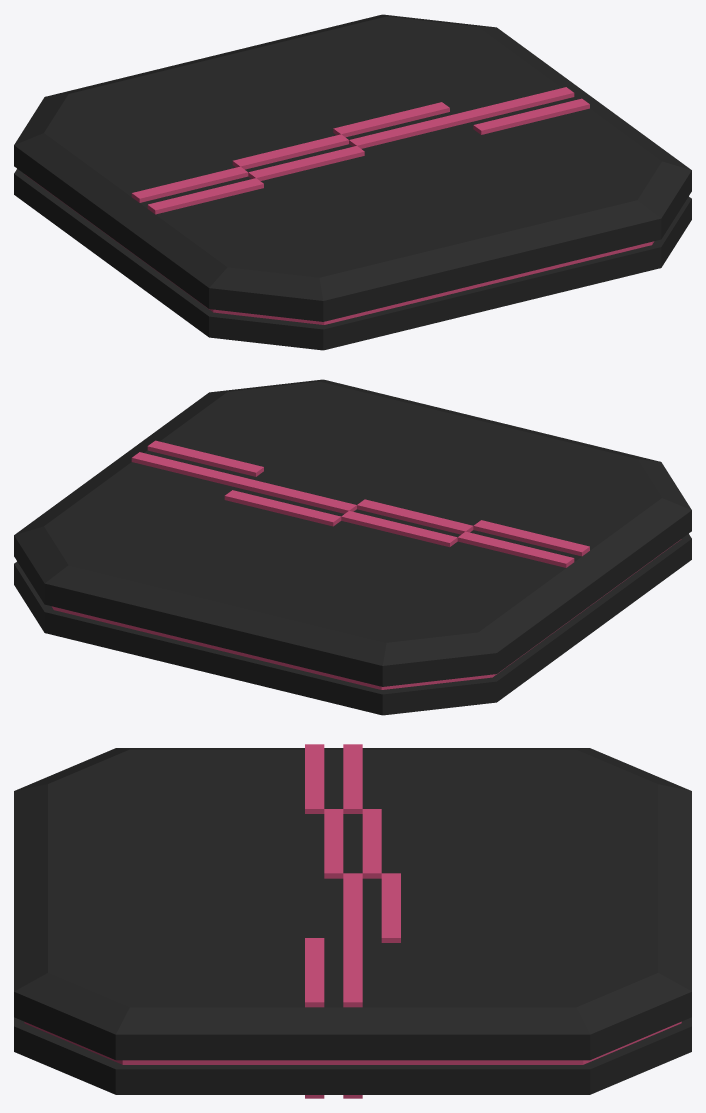
Rendered from Wall.fbx.
3 renders of one model, top to bottom at view 1: azimuth 30°, elevation 25°; view 2: azimuth 150°, elevation 25°; view 3: azimuth 270°, elevation 25°, orthographic. The views are drawn at different scales.
Visible parts, largest first — view 1: Cube.001; view 2: Cube.001; view 3: Cube.001.
Boxes of the visible parts, box(x1,y1,x2,y2) form: Cube.001: box(14, 14, 691, 350); Cube.001: box(14, 379, 691, 715); Cube.001: box(14, 744, 691, 1098).
Bounding box in the file's own units: 600 × 93.96 × 600.
